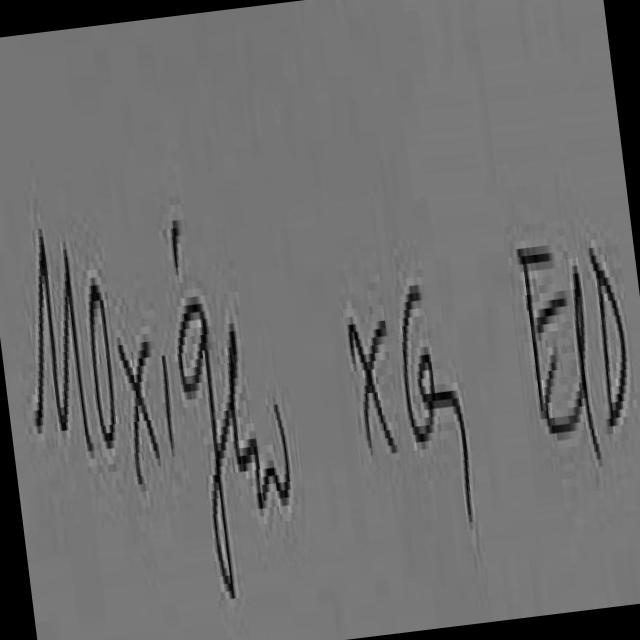D: (591, 247, 626, 422)
E: (520, 248, 583, 433), (539, 294, 566, 328)
M: (35, 229, 92, 447)
e: (223, 322, 257, 469)
g: (180, 297, 235, 594), (403, 294, 473, 517)
i: (161, 355, 175, 452)
n: (260, 371, 293, 512)
o: (90, 277, 114, 444)
x: (349, 316, 397, 448), (117, 341, 159, 479)
